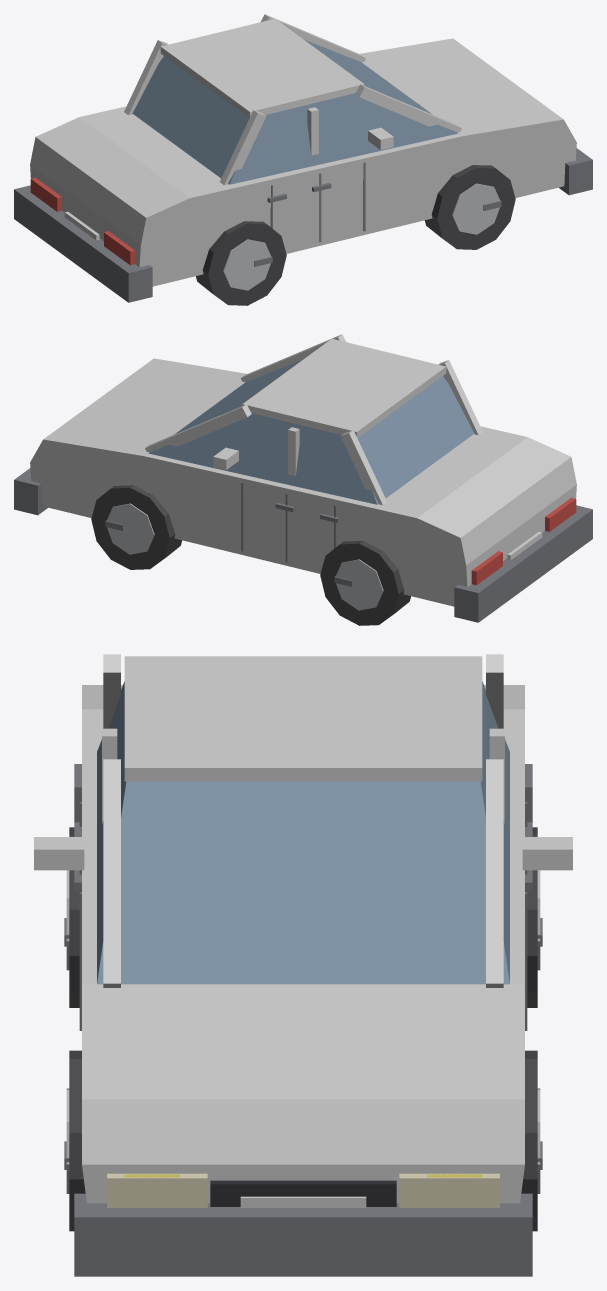
The model's file is Araba_Hatchback_Beyaz.glb.
The picture shows the model from 3 angles, top to bottom: view 1: azimuth 30°, elevation 25°; view 2: azimuth 150°, elevation 25°; view 3: azimuth 270°, elevation 25°; orthographic projection. The views are drawn at different scales.
Visible parts, largest first — view 1: Araba_Hatchback_Beyaz, Wheel_0.002, Wheel_2.002; view 2: Araba_Hatchback_Beyaz, Wheel_3.002, Wheel_1.002; view 3: Araba_Hatchback_Beyaz, Wheel_0.002, Wheel_1.002, Wheel_2.002, Wheel_3.002.
Boxes of the visible parts, x1=… form: Araba_Hatchback_Beyaz: x1=14, y1=14, x2=592, y2=302; Wheel_0.002: x1=424, y1=165, x2=515, y2=249; Wheel_2.002: x1=196, y1=221, x2=286, y2=305; Araba_Hatchback_Beyaz: x1=14, y1=334, x2=592, y2=622; Wheel_3.002: x1=320, y1=541, x2=410, y2=625; Wheel_1.002: x1=91, y1=485, x2=182, y2=569; Araba_Hatchback_Beyaz: x1=34, y1=654, x2=572, y2=1276; Wheel_0.002: x1=64, y1=1050, x2=85, y2=1231; Wheel_1.002: x1=521, y1=1050, x2=542, y2=1231; Wheel_2.002: x1=64, y1=827, x2=79, y2=1007; Wheel_3.002: x1=527, y1=827, x2=542, y2=1007.
Size of the model in its own units: 4.26 by 1.59 by 2.14.
